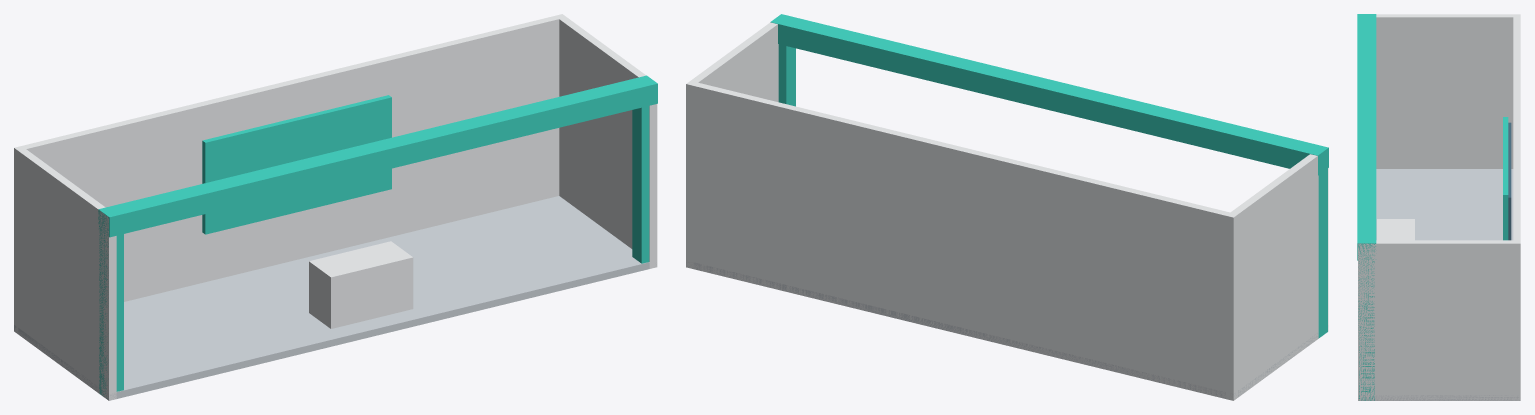
The picture shows the model from 3 angles, left to right: view 1: azimuth 30°, elevation 25°; view 2: azimuth 150°, elevation 25°; view 3: azimuth 270°, elevation 25°; orthographic projection. The views are drawn at different scales.
Visible parts, largest first — view 1: Exhibition Booth Concept; view 2: Exhibition Booth Concept; view 3: Exhibition Booth Concept.
Part boxes in pixels (x1,y1,x2,y2): Exhibition Booth Concept: (14,14,657,400); Exhibition Booth Concept: (686,14,1328,400); Exhibition Booth Concept: (1357,14,1520,400).
Size of the model in its own units: 10 by 3.2 by 3.01.
